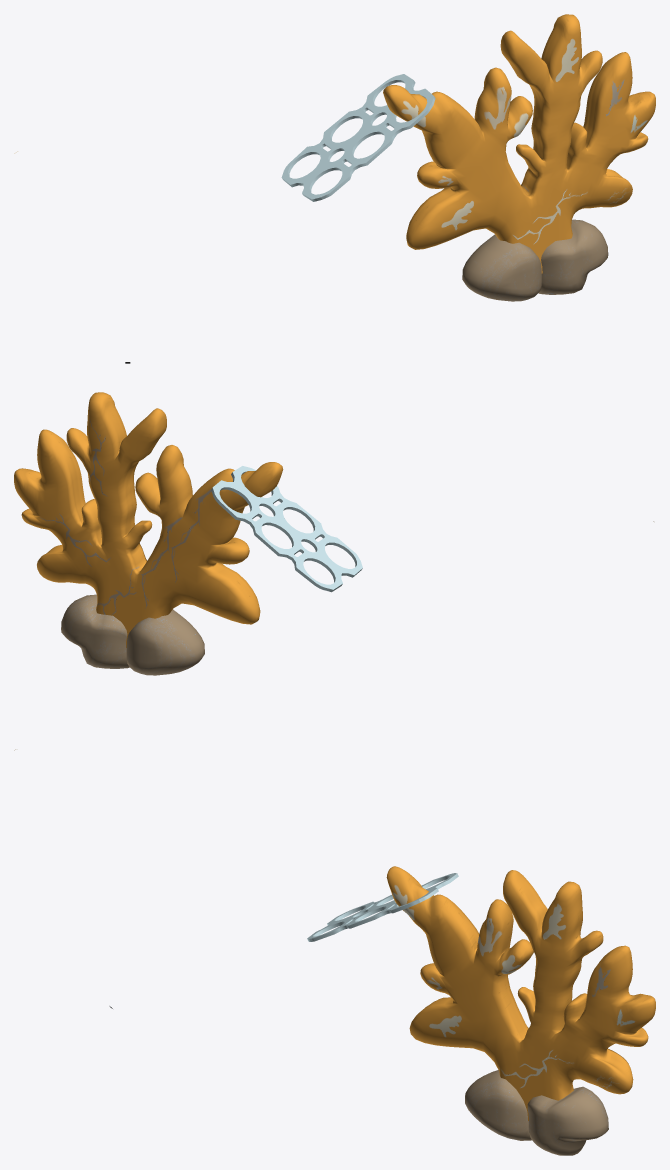
File: CORAL_FUEGOO.fbx
The picture shows the model from 3 angles, top to bottom: view 1: azimuth 30°, elevation 25°; view 2: azimuth 150°, elevation 25°; view 3: azimuth 330°, elevation 25°; orthographic projection.
Visible parts, largest first — view 1: CoralFuego1, Roca, polySurface5; view 2: CoralFuego1, Roca, polySurface5; view 3: CoralFuego1, Roca, polySurface5.
Part boxes in pixels (<box>): CoralFuego1: <box>383,14,655,273</box>; Roca: <box>462,219,608,301</box>; polySurface5: <box>281,74,435,201</box>; CoralFuego1: <box>14,392,283,647</box>; Roca: <box>61,594,204,675</box>; polySurface5: <box>211,466,362,592</box>; CoralFuego1: <box>386,866,655,1120</box>; Roca: <box>465,1070,608,1155</box>; polySurface5: <box>307,873,458,941</box>.
Size of the model in its own units: 13.13 by 5.39 by 1.64.
